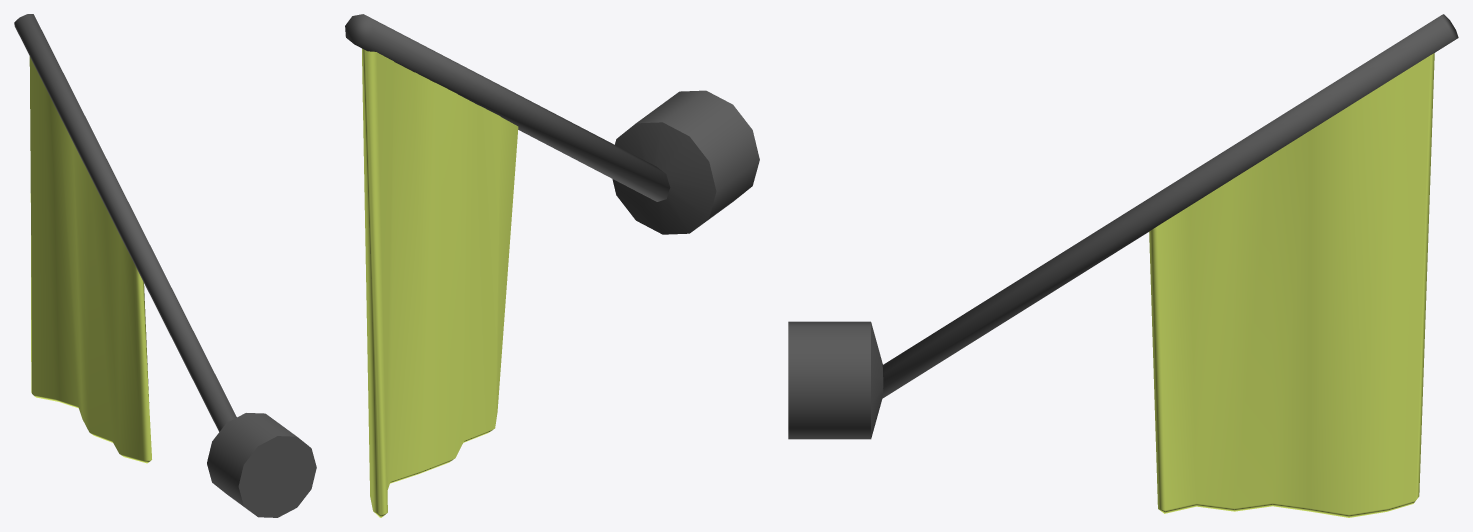
The model's file is Flag-B.fbx.
The picture shows the model from 3 angles, left to right: view 1: azimuth 30°, elevation 25°; view 2: azimuth 150°, elevation 25°; view 3: azimuth 270°, elevation 25°; orthographic projection. The views are drawn at different scales.
Visible parts, largest first — view 1: Flag-B_Cloth, Flag-B, Flag-B_Stand; view 2: Flag-B_Cloth, Flag-B_Stand, Flag-B; view 3: Flag-B_Cloth, Flag-B, Flag-B_Stand.
Boxes of the visible parts, box(x1,y1,x2,y2) form: Flag-B_Cloth: box(29, 56, 151, 463); Flag-B: box(14, 14, 236, 431); Flag-B_Stand: box(207, 413, 316, 517); Flag-B_Cloth: box(362, 48, 518, 517); Flag-B_Stand: box(612, 90, 759, 234); Flag-B: box(345, 14, 670, 201); Flag-B_Cloth: box(1149, 53, 1434, 517); Flag-B: box(882, 14, 1458, 398); Flag-B_Stand: box(788, 321, 883, 439).
Size of the model in its own units: 16.09 by 73.63 by 91.36.
